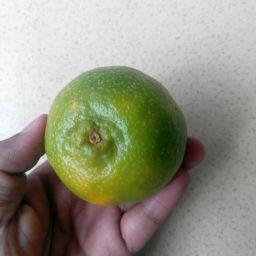Unripe: (43, 67, 185, 204)
